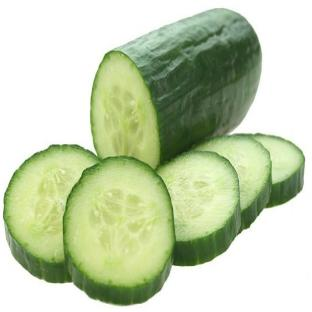Cucumber: (91, 9, 261, 167), (64, 157, 175, 304), (4, 146, 98, 282), (158, 151, 240, 265), (195, 135, 271, 230), (252, 134, 304, 207)
